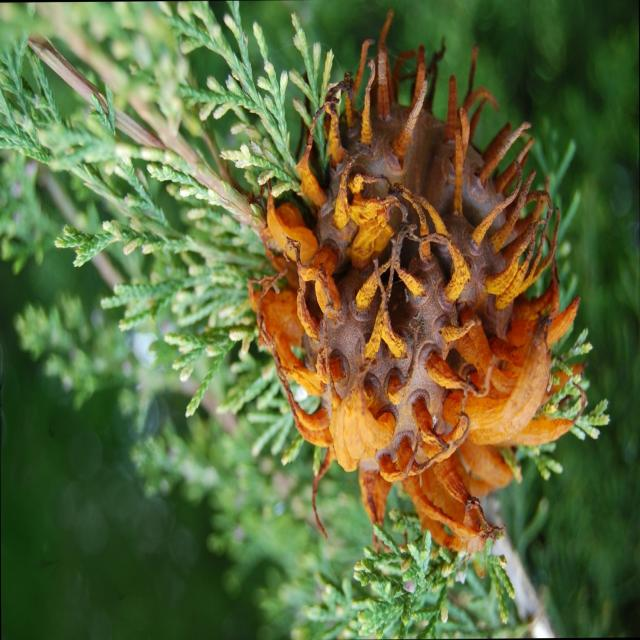Gymnosporangium_Rusts: (223, 16, 620, 572)
